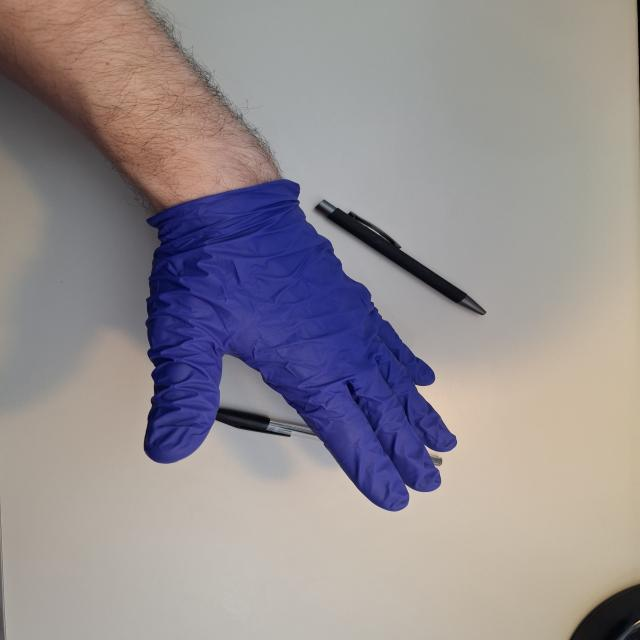glove_on: (138, 177, 462, 515)
